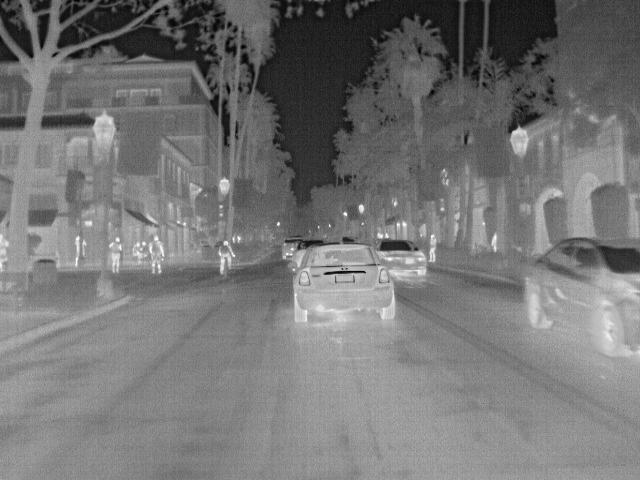car: (524, 235, 639, 359), (291, 241, 401, 323), (374, 238, 429, 279), (290, 238, 325, 272), (279, 238, 307, 260)
person: (217, 239, 237, 279), (146, 235, 164, 276), (108, 237, 124, 275), (424, 234, 439, 265), (1, 232, 9, 271), (130, 241, 144, 262)
